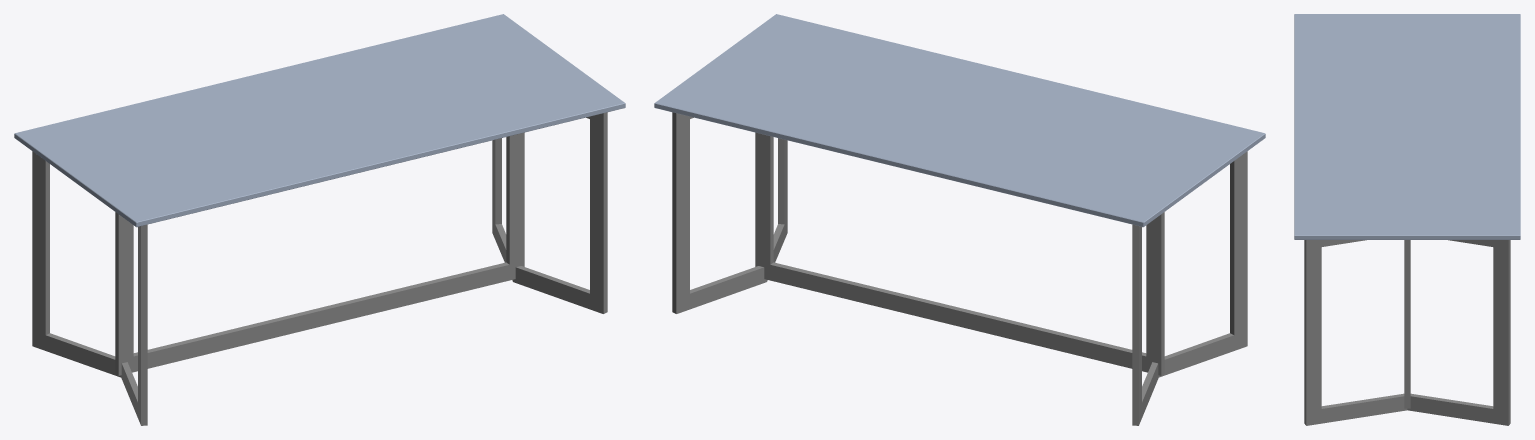
File: glass_table_office.glb
The picture shows the model from 3 angles, left to right: view 1: azimuth 30°, elevation 25°; view 2: azimuth 150°, elevation 25°; view 3: azimuth 270°, elevation 25°; orthographic projection. The views are drawn at different scales.
Parts seen in each view (by area): view 1: cristal_limpio, alumain; view 2: cristal_limpio, alumain; view 3: cristal_limpio, alumain.
Part boxes in pixels (left/top/right/bottom): cristal_limpio: left=14, top=14, right=625, bottom=227; alumain: left=32, top=112, right=607, bottom=425; cristal_limpio: left=654, top=14, right=1265, bottom=227; alumain: left=672, top=112, right=1247, bottom=425; cristal_limpio: left=1294, top=14, right=1520, bottom=239; alumain: left=1304, top=240, right=1510, bottom=425.
Bounding box in the file's own units: 1.86 × 0.7665 × 0.803.
